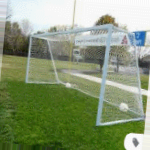goals: (24, 23, 146, 127)
